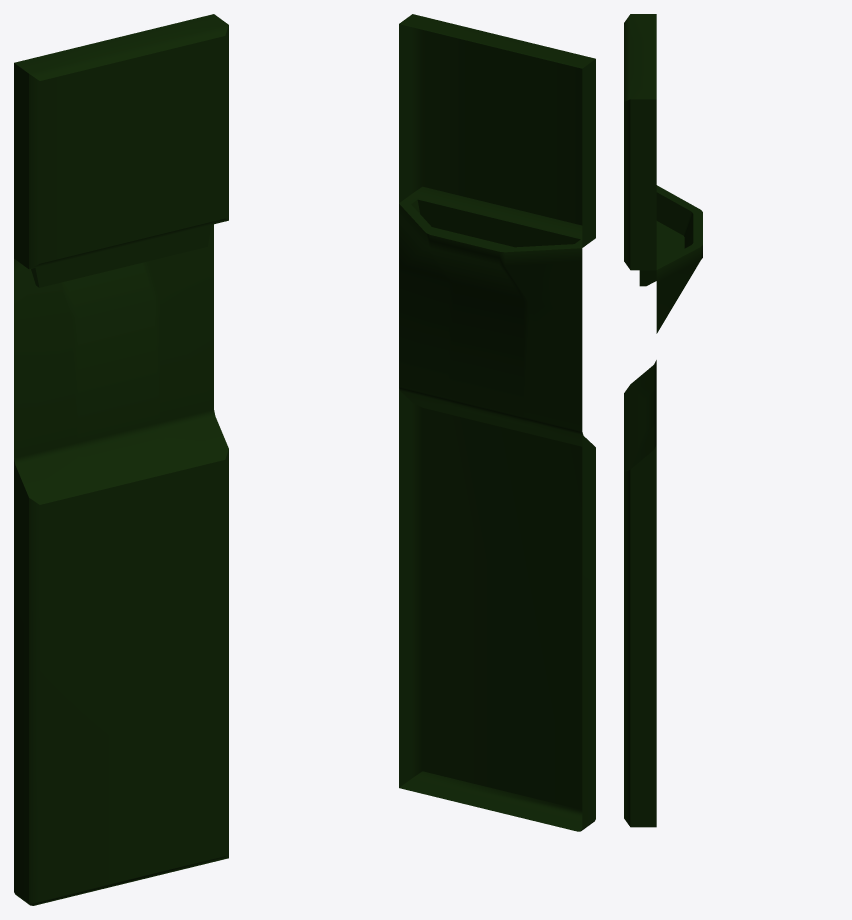
Rendered from Fridge_14_Mesh_2_3.obj.
3 renders of one model, left to right at view 1: azimuth 30°, elevation 25°; view 2: azimuth 150°, elevation 25°; view 3: azimuth 270°, elevation 25°, orthographic. The views are drawn at different scales.
Bounding box in the file's own units: 0.5497 × 1.88 × 0.4639.
